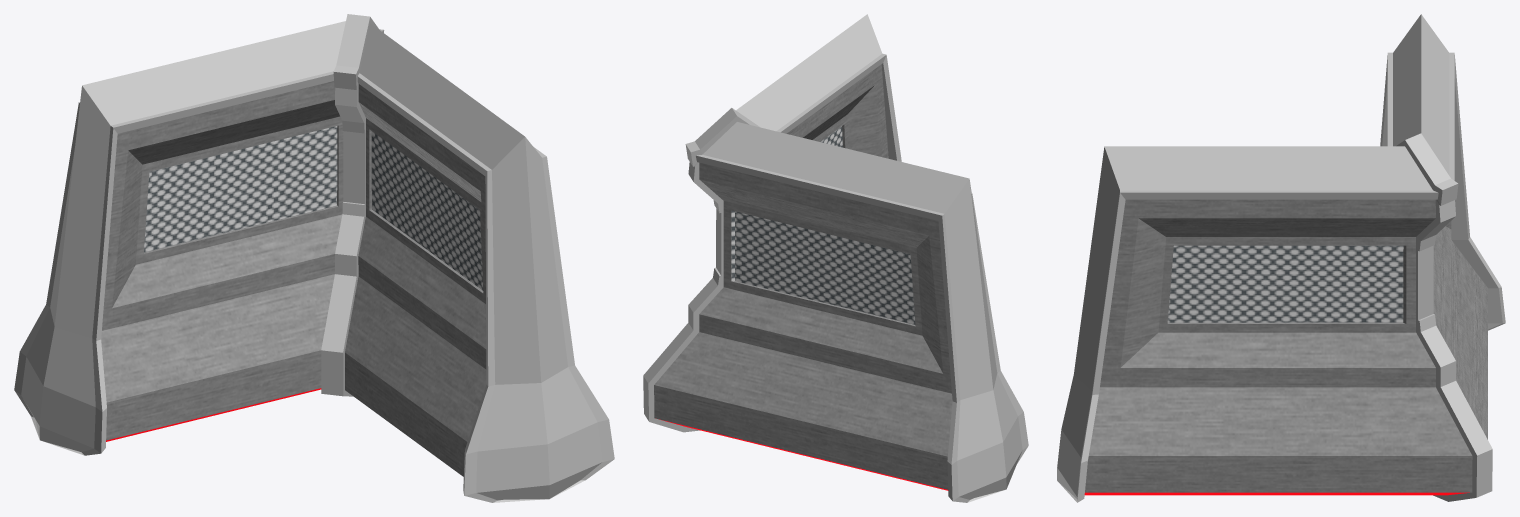
Rendered from ObstacleCorner.fbx.
3 views of the same model, side by side, from view 1: azimuth 30°, elevation 25°; view 2: azimuth 150°, elevation 25°; view 3: azimuth 270°, elevation 25° (orthographic). The views are drawn at different scales.
Visible parts, largest first — view 1: ObstacleCorner; view 2: ObstacleCorner; view 3: ObstacleCorner.
Boxes of the visible parts, left/top/right/bottom form: ObstacleCorner: left=14, top=14, right=614, bottom=502; ObstacleCorner: left=643, top=14, right=1028, bottom=502; ObstacleCorner: left=1057, top=14, right=1505, bottom=502.
Size of the model in its own units: 257 by 219 by 259.
